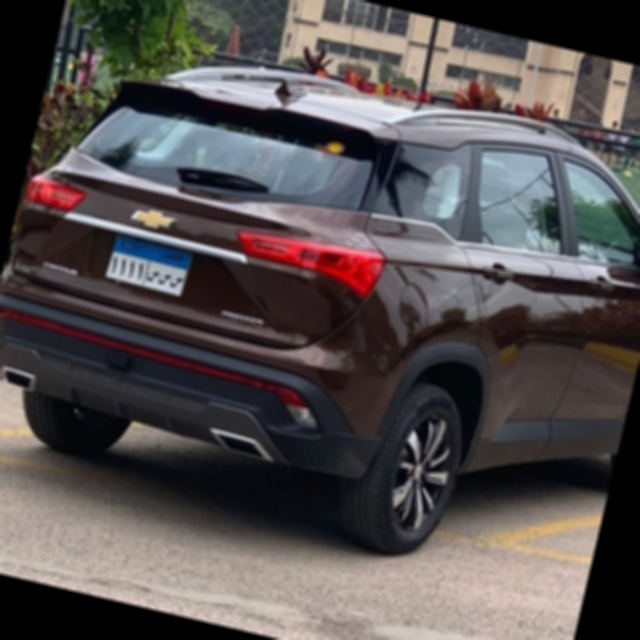License Plate: (101, 231, 194, 298)
